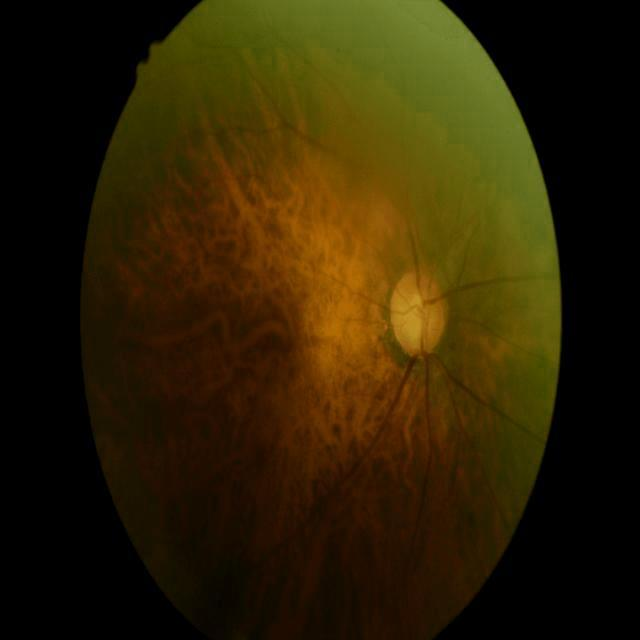cup: (405, 290, 430, 339)
disk: (390, 269, 448, 356)
